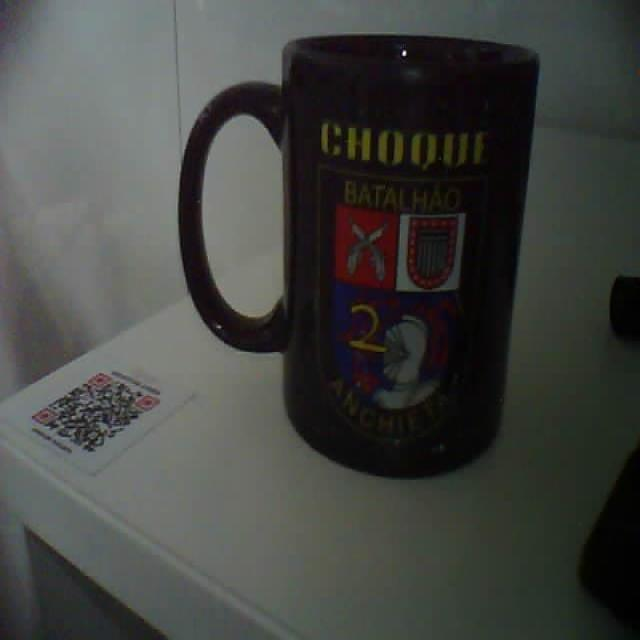caneca: (179, 35, 538, 475)
